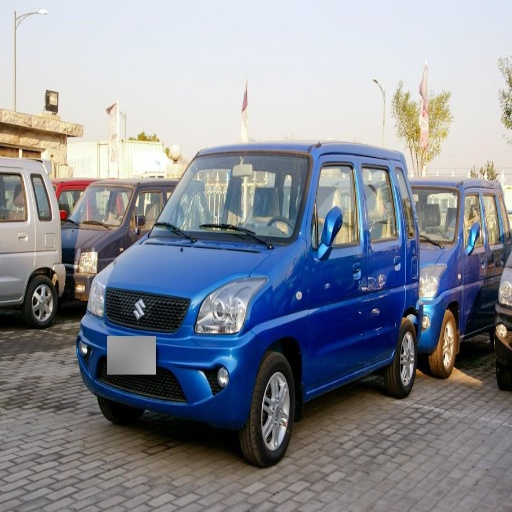front_bumper: (77, 286, 264, 428)
front_glass: (148, 152, 312, 245)
front_left_door: (308, 160, 367, 388)
trunk: (401, 263, 467, 329)
